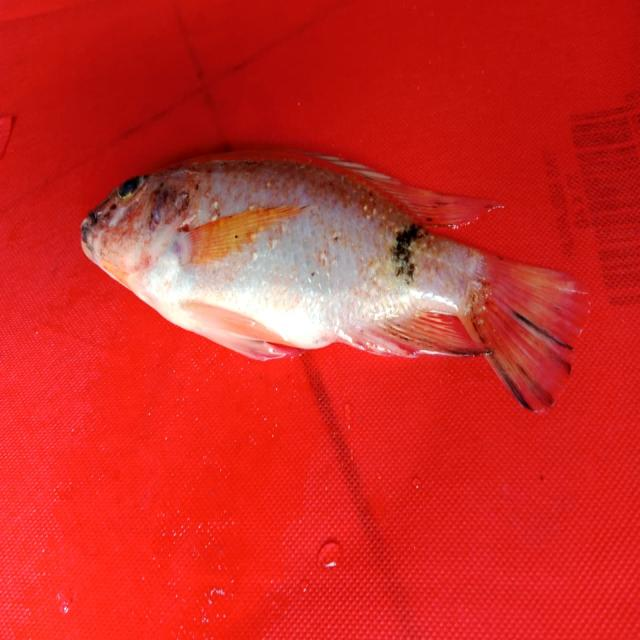ikan: (79, 152, 591, 416)
